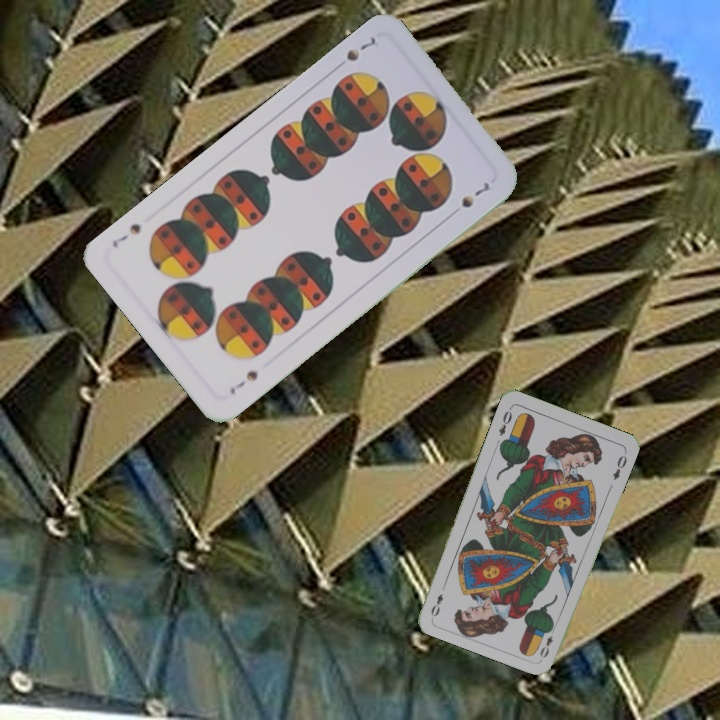EO: (536, 622, 558, 661), (495, 403, 515, 439)
S7: (342, 33, 382, 64), (225, 366, 261, 398)
